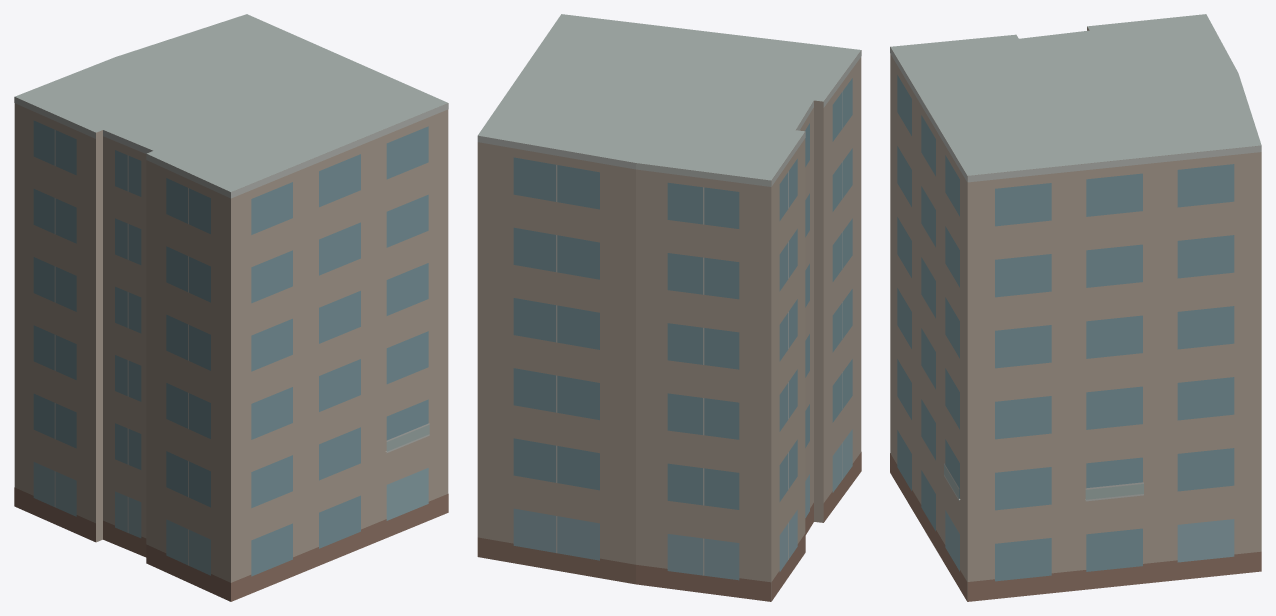
File: survey-upis-32965910.glb
3 views of the same model, side by side, from view 1: azimuth 30°, elevation 25°; view 2: azimuth 150°, elevation 25°; view 3: azimuth 270°, elevation 25° (orthographic). The views are drawn at different scales.
Visible parts, largest first — view 1: survey-upis-32965910.tmp; view 2: survey-upis-32965910.tmp; view 3: survey-upis-32965910.tmp.
Part boxes in pixels (x1,y1,x2,y2): survey-upis-32965910.tmp: (14, 14, 448, 601); survey-upis-32965910.tmp: (477, 14, 861, 601); survey-upis-32965910.tmp: (890, 14, 1261, 601).
Size of the model in its own units: 12.89 by 15.8 by 12.49.
